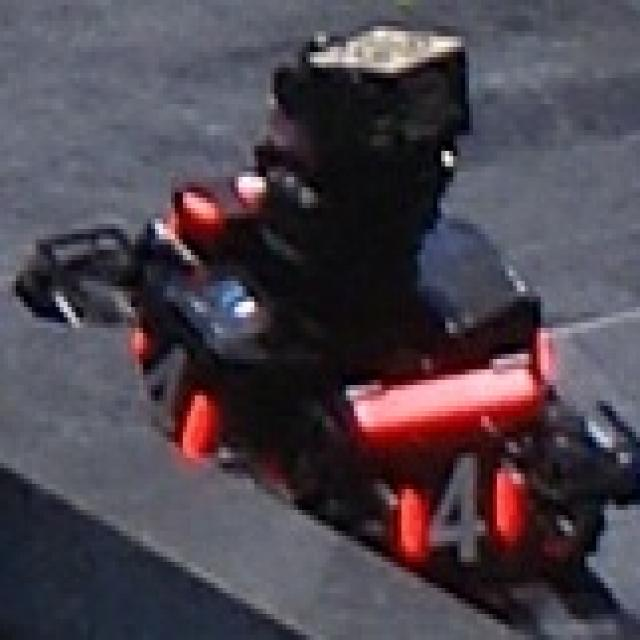R4: (382, 442, 528, 583), (105, 310, 221, 481)
